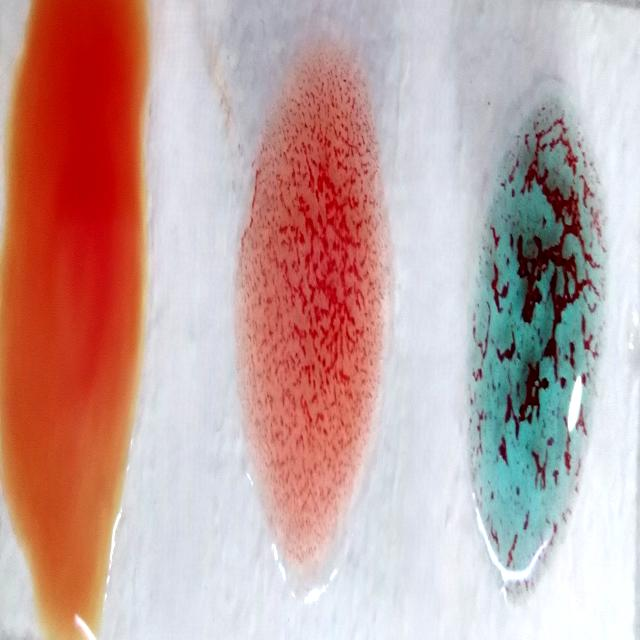A: (470, 109, 600, 594)
D: (237, 62, 392, 590)
